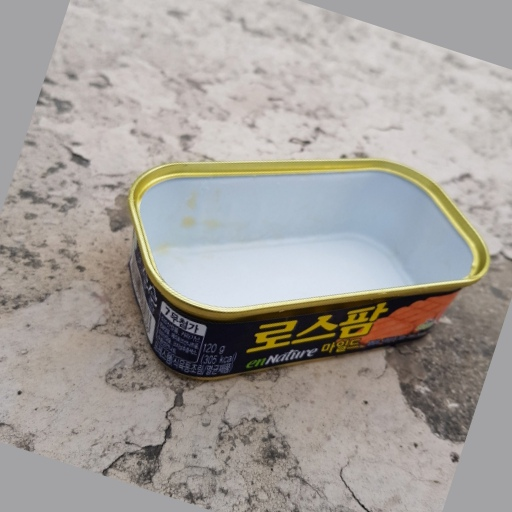Metal_2: (124, 154, 490, 374)
